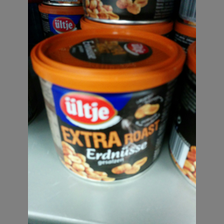nuts: (29, 26, 186, 185)
